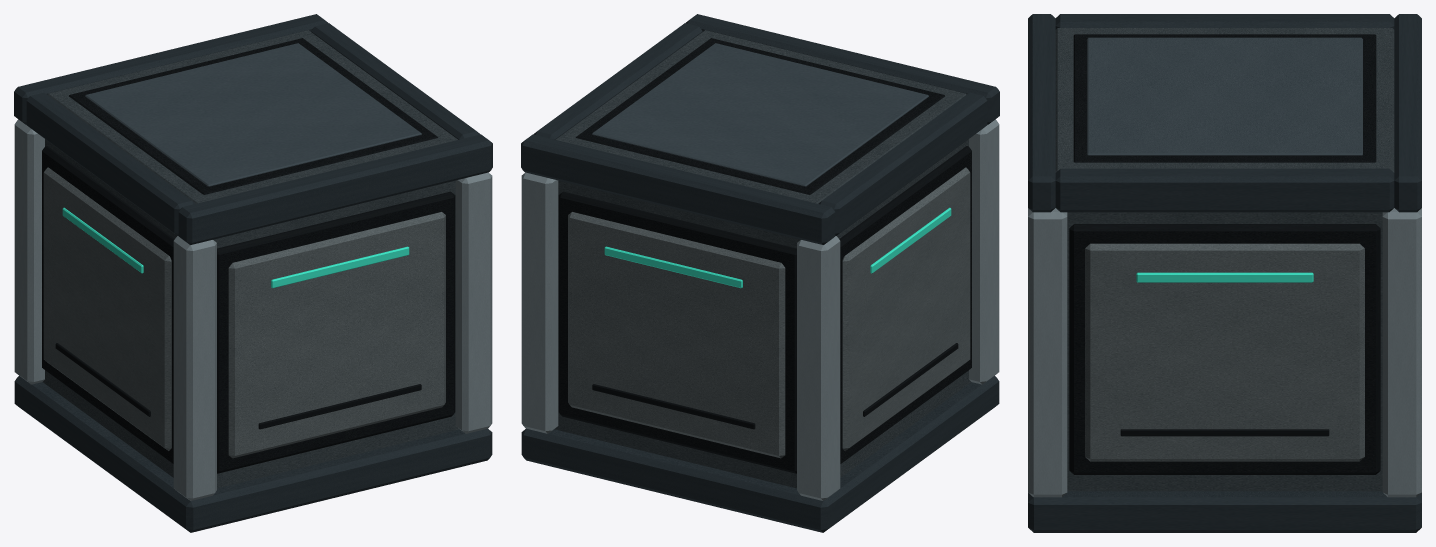
File: crate.glb
3 renders of one model, left to right at view 1: azimuth 30°, elevation 25°; view 2: azimuth 150°, elevation 25°; view 3: azimuth 270°, elevation 25°, orthographic. The views are drawn at different scales.
Parts seen in each view (by area): view 1: crate; view 2: crate; view 3: crate.
Boxes of the visible parts, bbox=[...] form: crate: bbox=[14, 14, 492, 532]; crate: bbox=[521, 14, 999, 532]; crate: bbox=[1028, 14, 1421, 532].
Size of the model in its own units: 1 by 1 by 1.
1 material, 1 textured.
